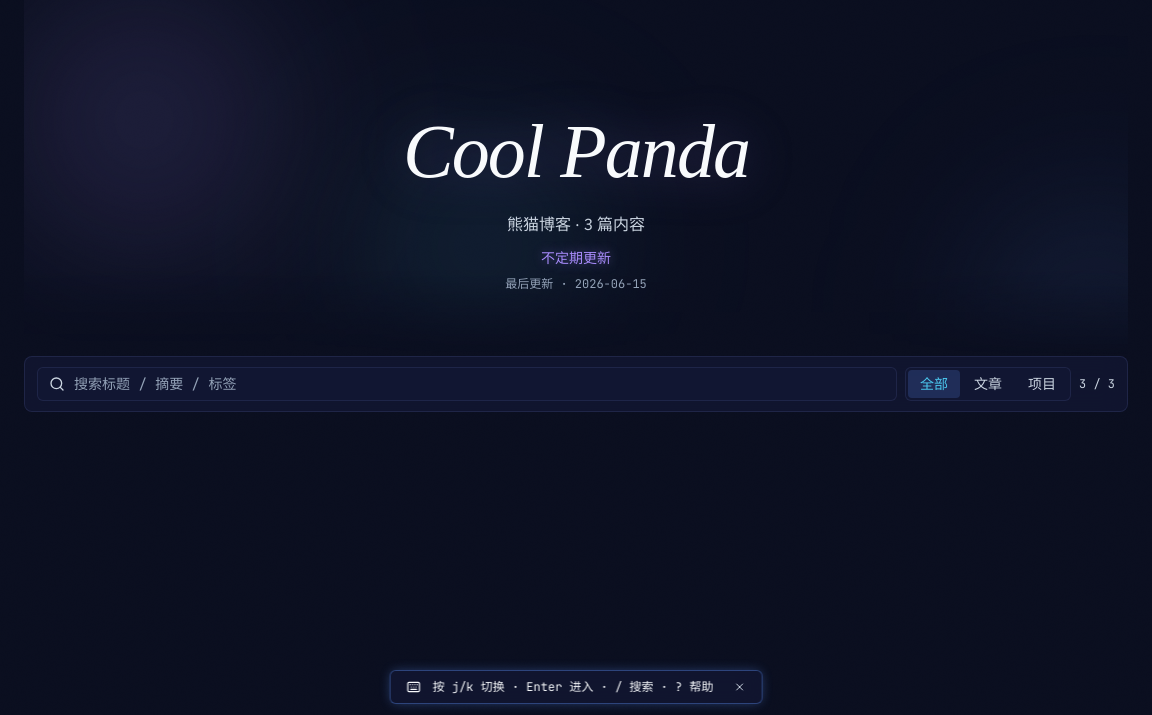
Test: Home 搜索过滤（与分类正交） › X 清除按钮在 query 非空时出现，点击清空并恢复全部卡片
Type "xyz不存在" into the search field with placeholder "搜索标题 / 摘要 / 标签".
click(467, 384); type("xyz不存在")  # box 37,367 -> 897,401
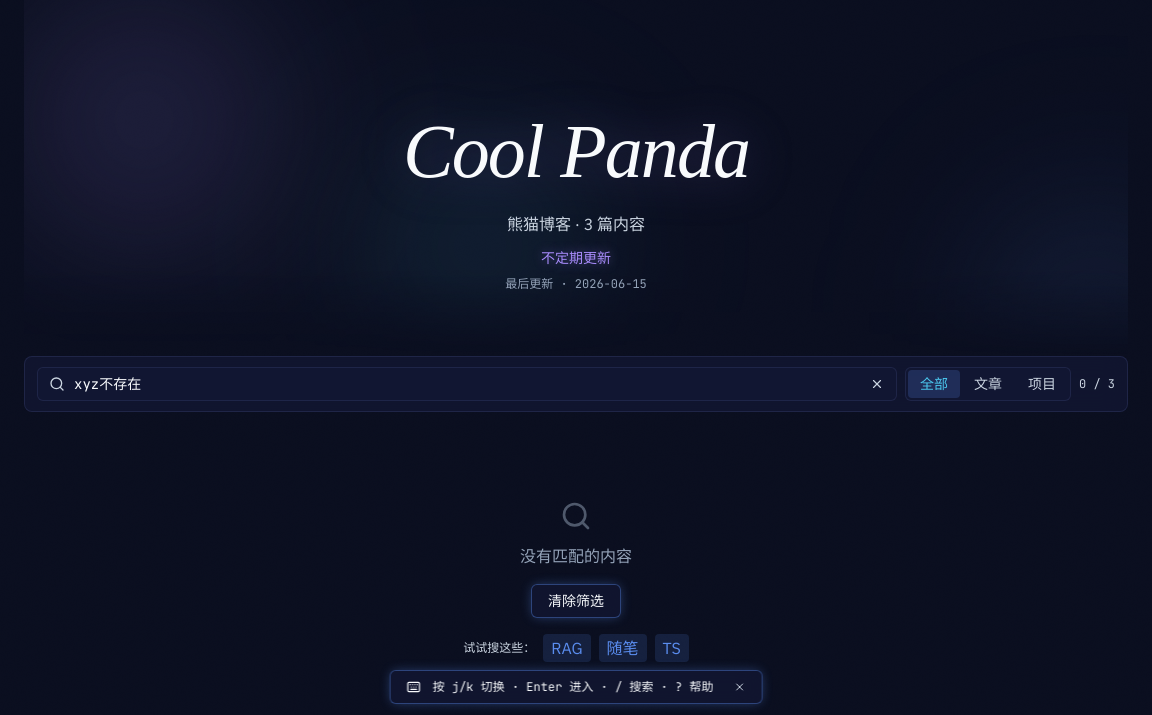
Expected: the button named "清除搜索" is shown
Click the button named "清除搜索".
click(877, 384)  # box 865,372 -> 889,396
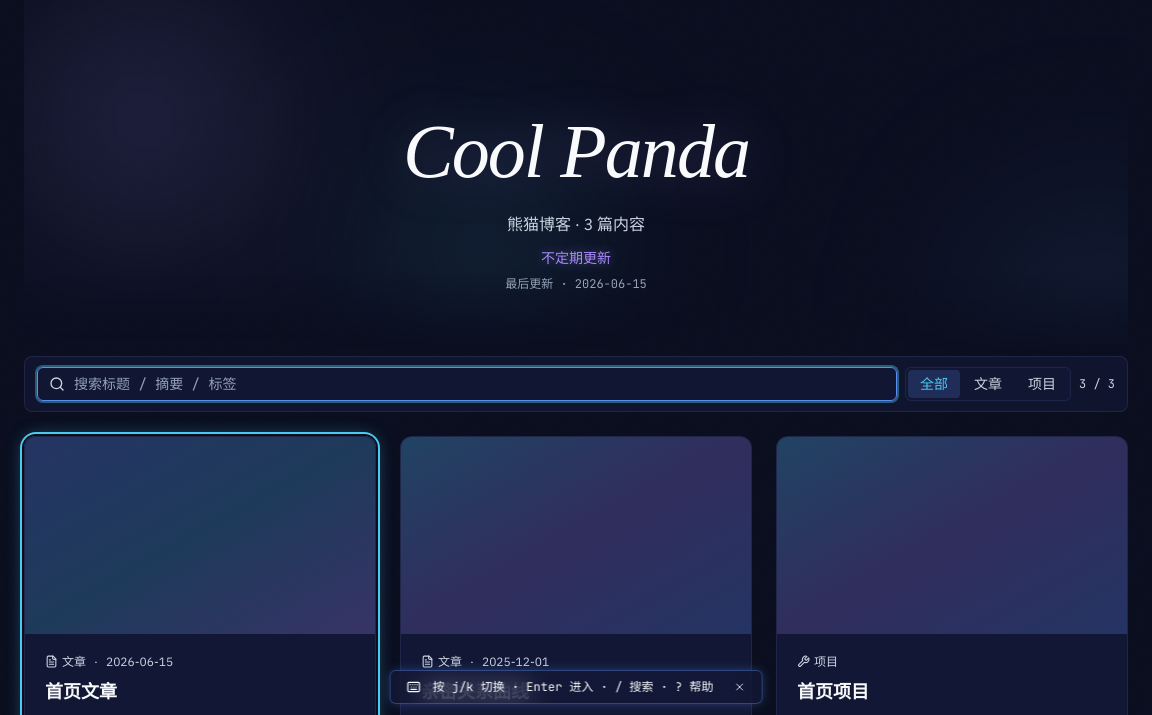
Expected: the heading "首页文章" is shown, 45,680 -> 117,703
Expected: the heading "首页项目" is shown, 797,680 -> 869,703
Expected: the heading "亲密关系曲线" is shown, 421,680 -> 529,703
